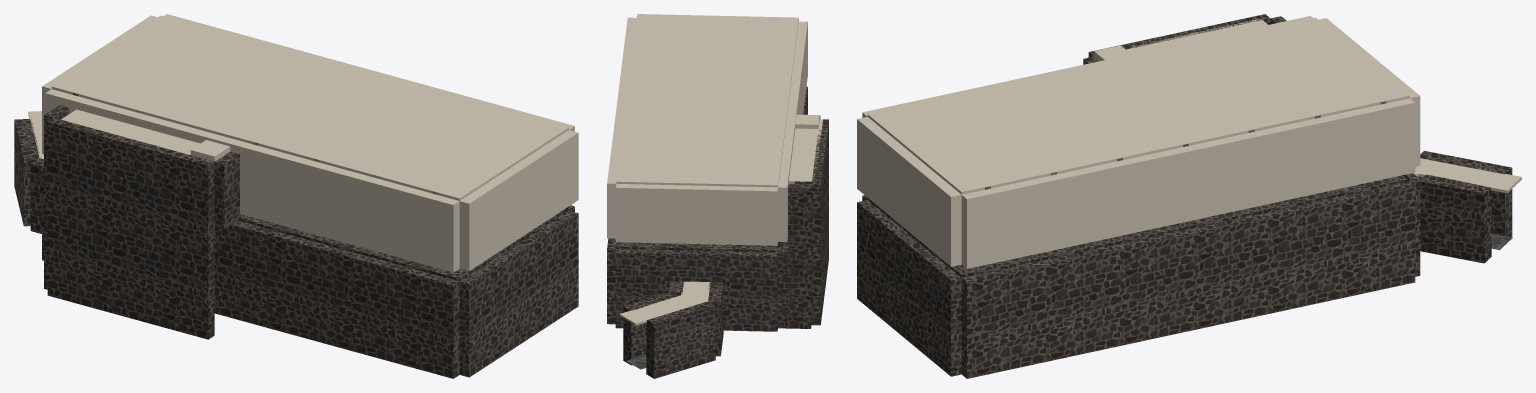
Rendered from palatsi-v2.glb.
3 renders of one model, left to right at view 1: azimuth 30°, elevation 25°; view 2: azimuth 150°, elevation 25°; view 3: azimuth 270°, elevation 25°, orthographic. The views are drawn at different scales.
Parts seen in each view (by area): view 1: palace_architecture; view 2: palace_architecture; view 3: palace_architecture.
Boxes of the visible parts, x1,y1,x2,y2 form: palace_architecture: (14, 14, 578, 378); palace_architecture: (607, 14, 828, 378); palace_architecture: (857, 14, 1521, 378).
Bounding box in the file's own units: 15.46 × 7.1 × 22.47.
5 materials, 3 textured.
